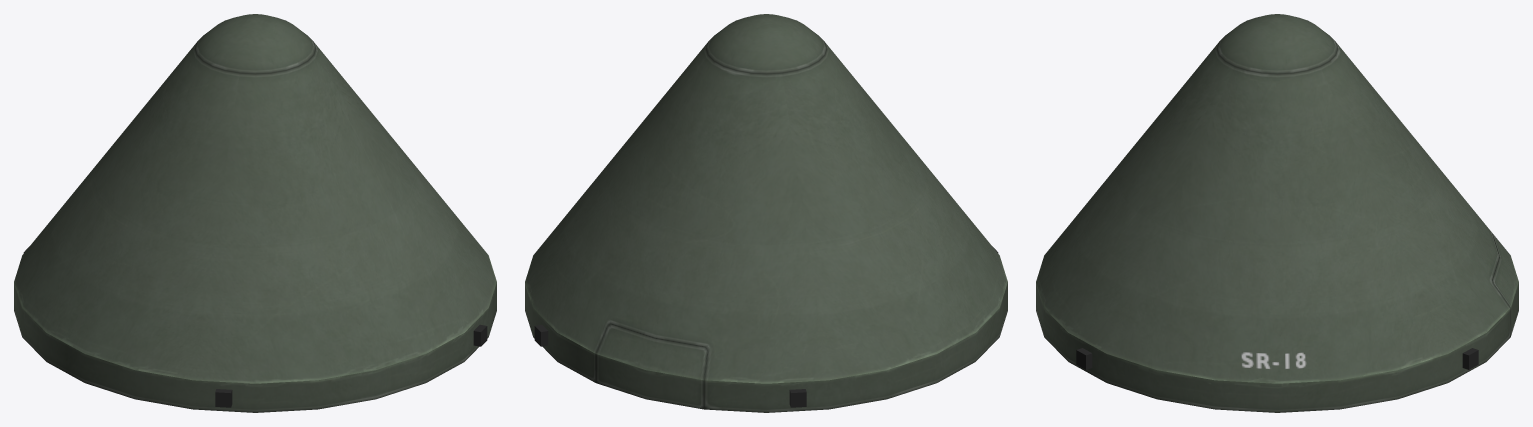
Rendered from sargas_control_s1p5_2.obj.
The picture shows the model from 3 angles, left to right: view 1: azimuth 30°, elevation 25°; view 2: azimuth 150°, elevation 25°; view 3: azimuth 270°, elevation 25°; orthographic projection.
Visible parts, largest first — view 1: sargas_control_s1p5_2; view 2: sargas_control_s1p5_2; view 3: sargas_control_s1p5_2.
Part boxes in pixels (x1,y1,x2,y2): sargas_control_s1p5_2: (14, 14, 496, 412); sargas_control_s1p5_2: (525, 14, 1007, 412); sargas_control_s1p5_2: (1036, 14, 1518, 412).
Size of the model in its own units: 1.88 by 1.25 by 1.88.
